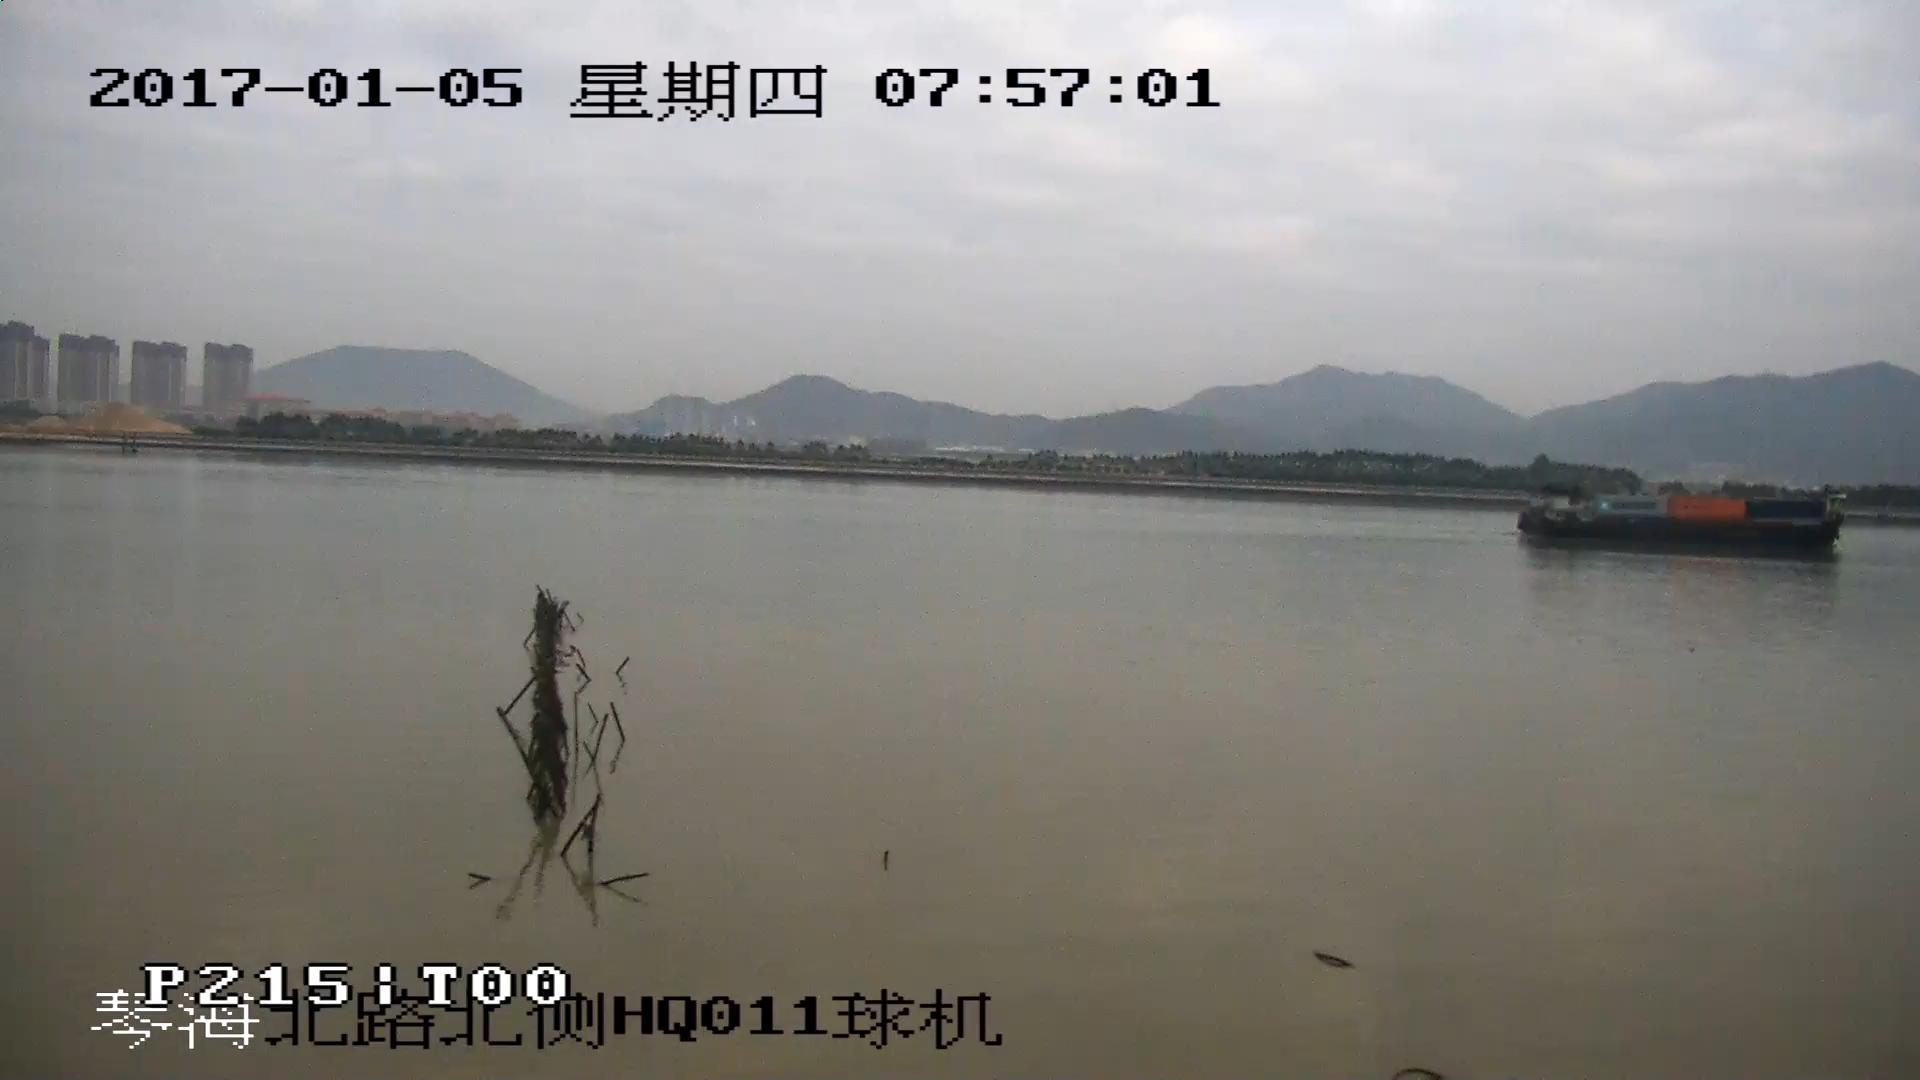container ship: (1516, 492, 1840, 557)
